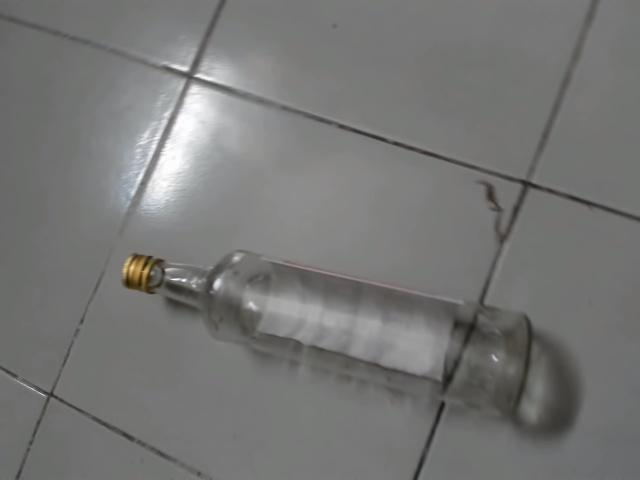botol_kaca: (114, 243, 548, 424)
